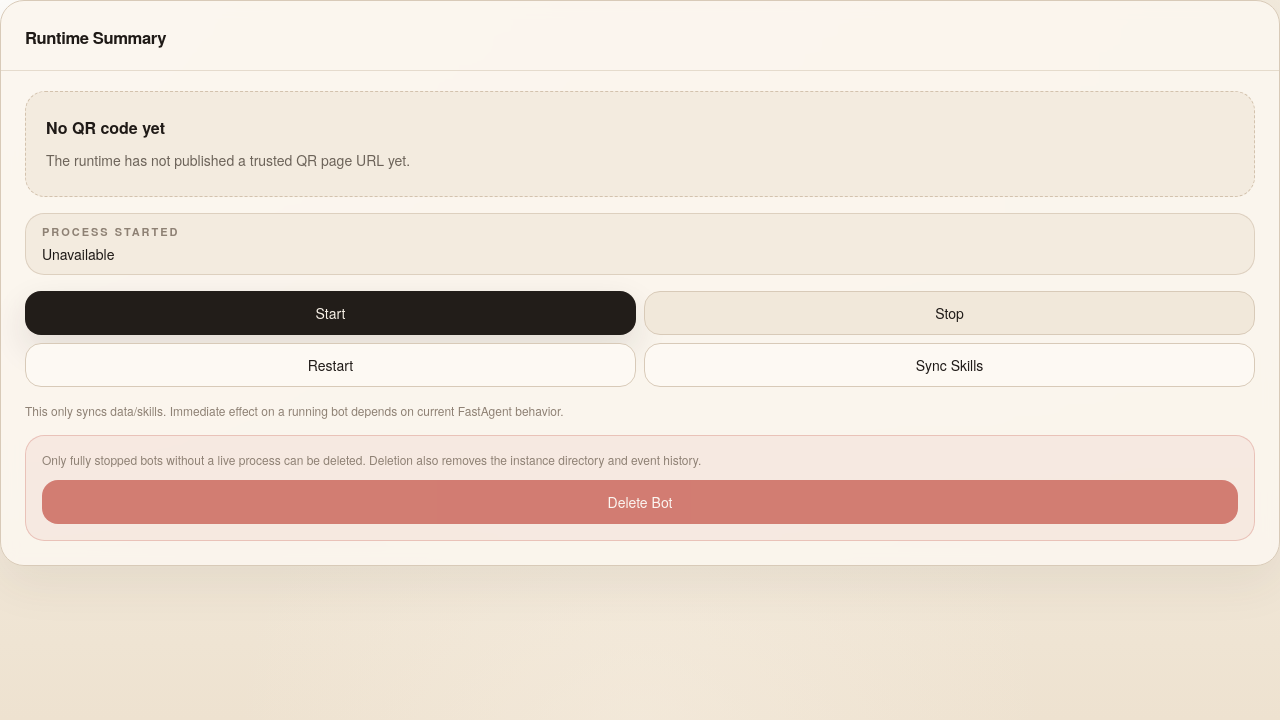
Test: keeps all actions visible and shows inline errors on failed commands
Expected: the heading "Runtime Summary" is shown, [25,25,166,49]
Click the button "Stop" at (950, 314), box [644,292,1255,336]
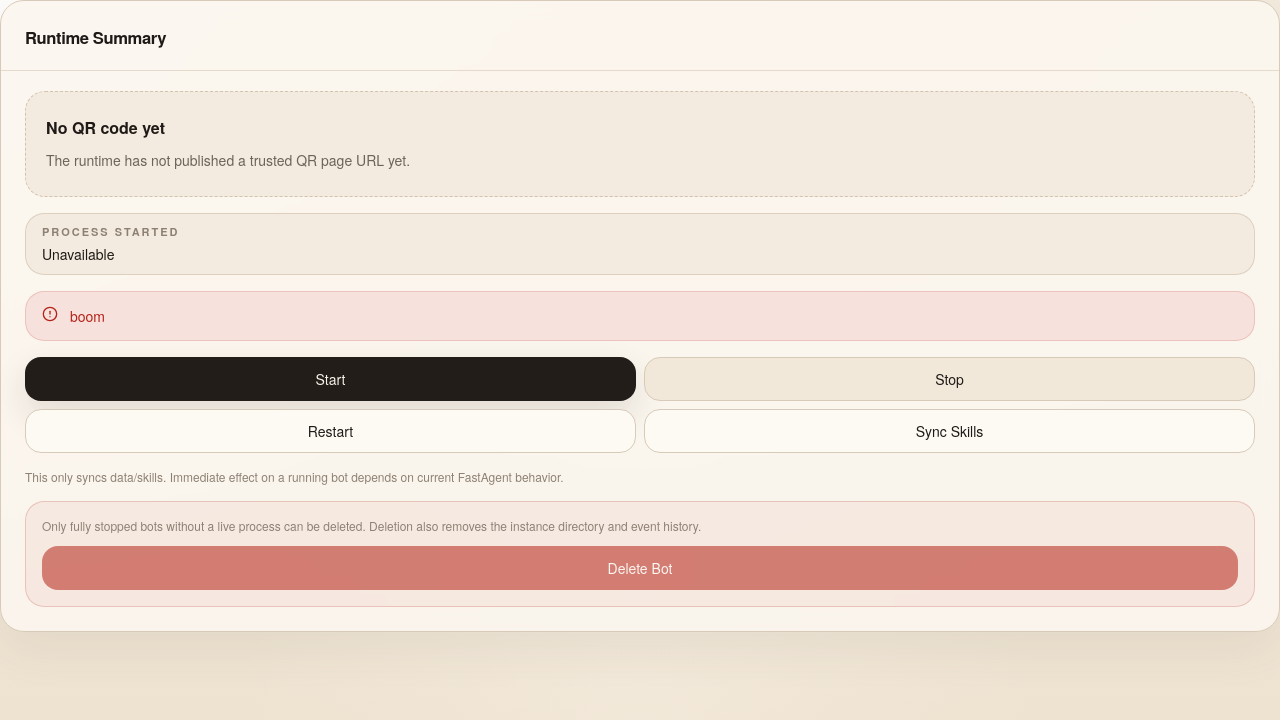
Expected: the button "Start" is shown, [25,358,636,402]
Result: the message reads "boom" at [70,306,105,326]
